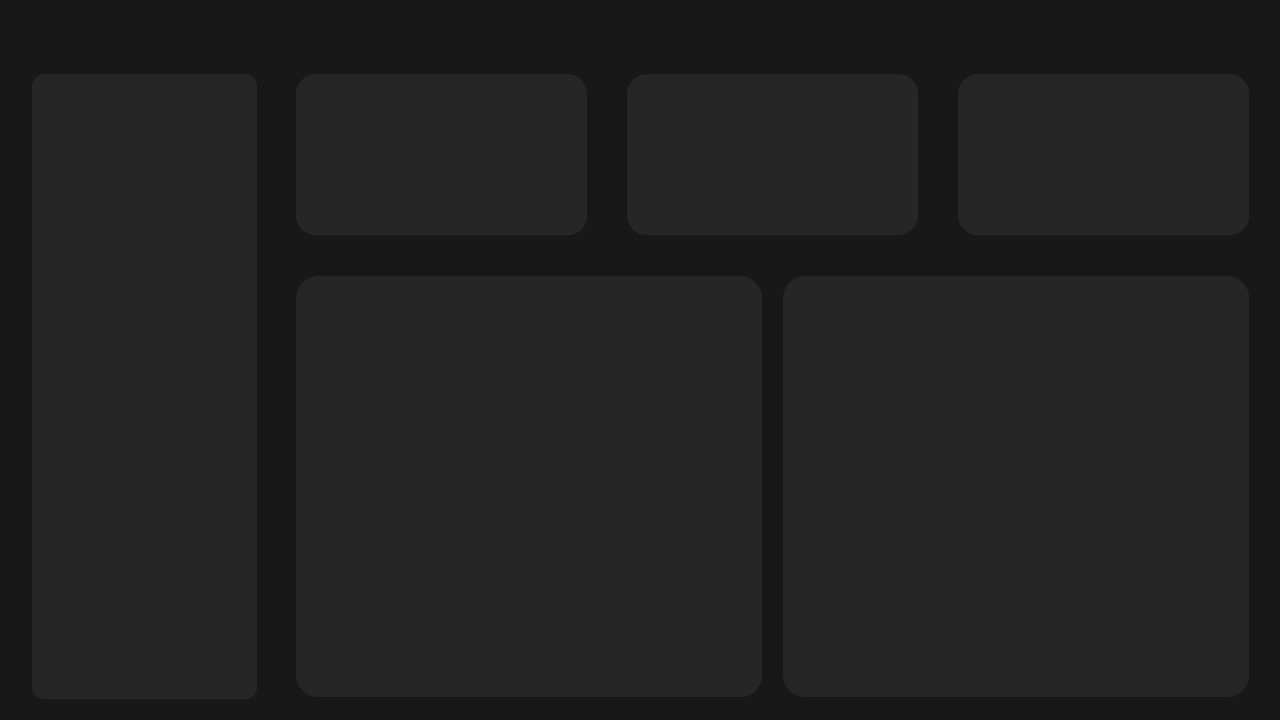

What the dashboard file says about the page in this screenshot:
{"tool":"powerbi","page":{"name":"Мій список","canvas":[1280,720],"ordinal":1},"visuals":[{"type":"tableEx","fields":{"Values":["df2.name","df2.price","df2.percent_change_24h","Sum(df2.percent_change_7d)","df2.percent_change_30d","df2.volume_change_24h","df2.volume_24h"]},"box":[295.6,460.3,957.5,236.9],"z":0},{"type":"shape","box":[309.8,355.4,263.8,56.2],"z":1000},{"type":"shape","box":[642.5,352.5,263.8,56.2],"z":2000},{"type":"shape","box":[969.8,352.9,263.8,56.2],"z":3000},{"type":"shape","box":[310,168.8,263.8,56.2],"z":4000},{"type":"card","fields":{"Values":["df2.TON_price"]},"box":[353.2,303.3,140,45],"z":5000},{"type":"card","fields":{"Values":["df2.STRK_price"]},"box":[685.7,302,140,45],"z":6000},{"type":"card","fields":{"Values":["df2.DOT_price"]},"box":[1013.2,300.8,140,45],"z":7000},{"type":"card","fields":{"Values":["df2.ATOM_price"]},"box":[353.3,116.7,140,45],"z":8000},{"type":"card","fields":{"Values":["Sum(df2.percent_change_24h_modified)"]},"box":[309.8,380.4,90,31.2],"z":9000},{"type":"card","fields":{"Values":["Sum(df2.percent_change_24h_modified)"]},"box":[642.3,379.1,90,31.2],"z":10000},{"type":"card","fields":{"Values":["Sum(df2.percent_change_24h_modified)"]},"box":[969.8,377.9,90,31.2],"z":11000},{"type":"card","fields":{"Values":["Sum(df2.percent_change_24h_modified)"]},"box":[310,193.8,90,31.2],"z":12000},{"type":"textbox","box":[360,85,120,41.7],"z":13000},{"type":"textbox","box":[359.8,271.6,120,41.7],"z":14000},{"type":"textbox","box":[692.3,270.4,120,41.7],"z":15000},{"type":"textbox","box":[1019.8,269.1,120,41.7],"z":16000},{"type":"card","fields":{"Values":["Sum(df2.percent_change_7d_modified)"]},"box":[483.8,193.8,90,31.2],"z":17000},{"type":"card","fields":{"Values":["Sum(df2.percent_change_7d_modified)"]},"box":[483.6,380.4,90,31.2],"z":18000},{"type":"card","fields":{"Values":["Sum(df2.percent_change_7d_modified)"]},"box":[816.1,379.1,90,31.2],"z":19000},{"type":"card","fields":{"Values":["Sum(df2.percent_change_7d_modified)"]},"box":[1143.6,377.9,90,31.2],"z":20000},{"type":"textbox","box":[467,168,107.5,33.6],"z":21000},{"type":"textbox","box":[467,356.1,105.8,31.9],"z":22000},{"type":"textbox","box":[802.9,354.4,109.2,31.9],"z":23000},{"type":"textbox","box":[1127.1,351.1,107.5,31.9],"z":24000},{"type":"textbox","box":[313.8,168.8,110,32.5],"z":25000},{"type":"textbox","box":[313.6,355.4,110,32.5],"z":26000},{"type":"textbox","box":[646.1,354.1,110,32.5],"z":27000},{"type":"textbox","box":[973.6,352.9,110,32.5],"z":28000},{"type":"shape","box":[640,168.8,263.8,56.2],"z":29000},{"type":"card","fields":{"Values":["df2.ADA_price"]},"box":[678.3,121.7,140,45],"z":30000},{"type":"textbox","box":[693.3,85,120,41.7],"z":31000},{"type":"card","fields":{"Values":["Sum(df2.percent_change_7d_modified)"]},"box":[813.8,193.8,90,31.2],"z":32000},{"type":"card","fields":{"Values":["Sum(df2.percent_change_24h_modified)"]},"box":[640,193.8,90,31.2],"z":33000},{"type":"textbox","box":[796.2,168,107.5,33.6],"z":34000},{"type":"textbox","box":[645,168.8,108.8,32.5],"z":35000},{"type":"shape","box":[970,168.8,263.8,56.2],"z":36000},{"type":"card","fields":{"Values":["df2.LINK_price"]},"box":[1015,121.7,140,45],"z":37000},{"type":"textbox","box":[1023.3,85,120,41.7],"z":38000},{"type":"card","fields":{"Values":["Sum(df2.percent_change_24h_modified)"]},"box":[970,193.8,90,31.2],"z":39000},{"type":"card","fields":{"Values":["Sum(df2.percent_change_7d_modified)"]},"box":[1141.2,193.8,90,31.2],"z":40000},{"type":"textbox","box":[1125.5,168,107.5,33.6],"z":41000},{"type":"textbox","box":[979,169,115,32],"z":42000},{"type":"image","box":[303.8,77.5,57.5,57.5],"z":43000},{"type":"image","box":[635,77.5,58.8,57.5],"z":44000},{"type":"image","box":[961.2,77.5,58.8,57.5],"z":45000},{"type":"image","box":[303.8,262.5,58.8,57.5],"z":46000},{"type":"image","box":[635,261.2,57.5,57.5],"z":47000},{"type":"image","box":[961.2,261.2,57.5,57.5],"z":48000},{"type":"textbox","box":[31.7,0,1218.3,60],"z":49000},{"type":"pageNavigator","box":[43.7,144.5,199.9,339.3],"z":50000}]}

Visuals, with their boxes in screenshot pixels (x1, y1, x2, y2), scaled from the page's 1280x720 canvas onto the 1280x720 screenshot:
tableEx - df2.name x df2.price: box=[296, 460, 1253, 697]
shape: box=[310, 355, 574, 412]
shape: box=[642, 352, 906, 409]
shape: box=[970, 353, 1234, 409]
shape: box=[310, 169, 574, 225]
card - df2.TON_price: box=[353, 303, 493, 348]
card - df2.STRK_price: box=[686, 302, 826, 347]
card - df2.DOT_price: box=[1013, 301, 1153, 346]
card - df2.ATOM_price: box=[353, 117, 493, 162]
card - Sum(df2.percent_change_24h_modified): box=[310, 380, 400, 412]
card - Sum(df2.percent_change_24h_modified): box=[642, 379, 732, 410]
card - Sum(df2.percent_change_24h_modified): box=[970, 378, 1060, 409]
card - Sum(df2.percent_change_24h_modified): box=[310, 194, 400, 225]
textbox: box=[360, 85, 480, 127]
textbox: box=[360, 272, 480, 313]
textbox: box=[692, 270, 812, 312]
textbox: box=[1020, 269, 1140, 311]
card - Sum(df2.percent_change_7d_modified): box=[484, 194, 574, 225]
card - Sum(df2.percent_change_7d_modified): box=[484, 380, 574, 412]
card - Sum(df2.percent_change_7d_modified): box=[816, 379, 906, 410]
card - Sum(df2.percent_change_7d_modified): box=[1144, 378, 1234, 409]
textbox: box=[467, 168, 574, 202]
textbox: box=[467, 356, 573, 388]
textbox: box=[803, 354, 912, 386]
textbox: box=[1127, 351, 1235, 383]
textbox: box=[314, 169, 424, 201]
textbox: box=[314, 355, 424, 388]
textbox: box=[646, 354, 756, 387]
textbox: box=[974, 353, 1084, 385]
shape: box=[640, 169, 904, 225]
card - df2.ADA_price: box=[678, 122, 818, 167]
textbox: box=[693, 85, 813, 127]
card - Sum(df2.percent_change_7d_modified): box=[814, 194, 904, 225]
card - Sum(df2.percent_change_24h_modified): box=[640, 194, 730, 225]
textbox: box=[796, 168, 904, 202]
textbox: box=[645, 169, 754, 201]
shape: box=[970, 169, 1234, 225]
card - df2.LINK_price: box=[1015, 122, 1155, 167]
textbox: box=[1023, 85, 1143, 127]
card - Sum(df2.percent_change_24h_modified): box=[970, 194, 1060, 225]
card - Sum(df2.percent_change_7d_modified): box=[1141, 194, 1231, 225]
textbox: box=[1126, 168, 1233, 202]
textbox: box=[979, 169, 1094, 201]
image: box=[304, 78, 361, 135]
image: box=[635, 78, 694, 135]
image: box=[961, 78, 1020, 135]
image: box=[304, 262, 363, 320]
image: box=[635, 261, 692, 319]
image: box=[961, 261, 1019, 319]
textbox: box=[32, 0, 1250, 60]
pageNavigator: box=[44, 144, 244, 484]
